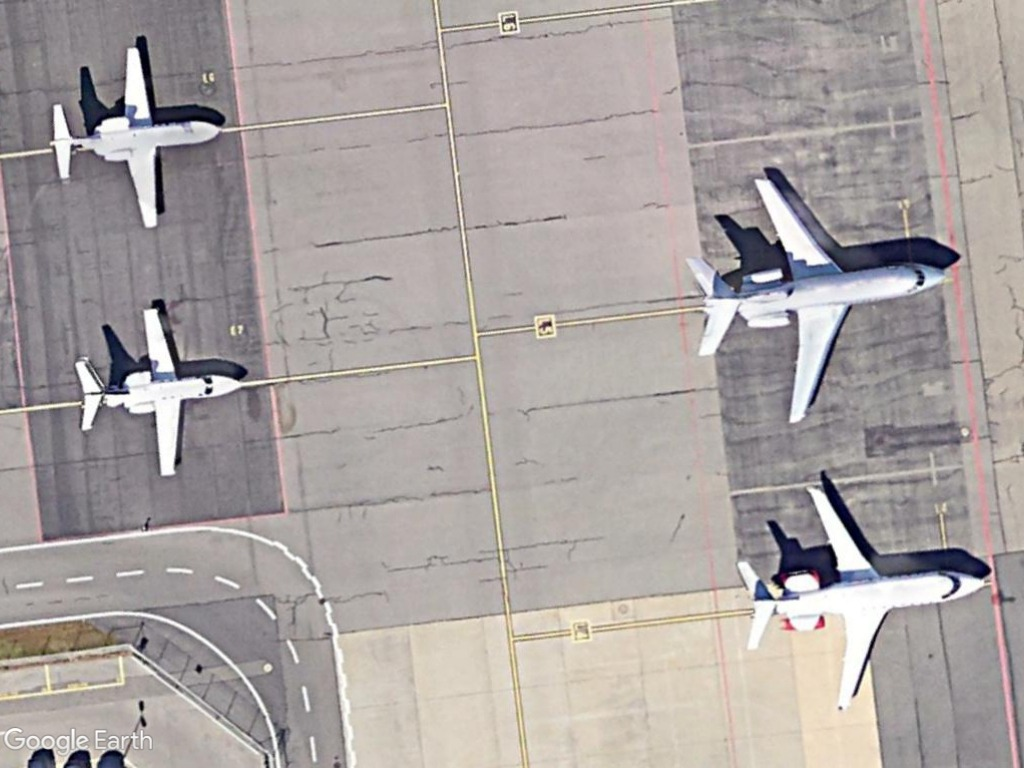chartered: (679, 172, 951, 429), (728, 478, 995, 715), (65, 301, 255, 478), (44, 46, 223, 230)
